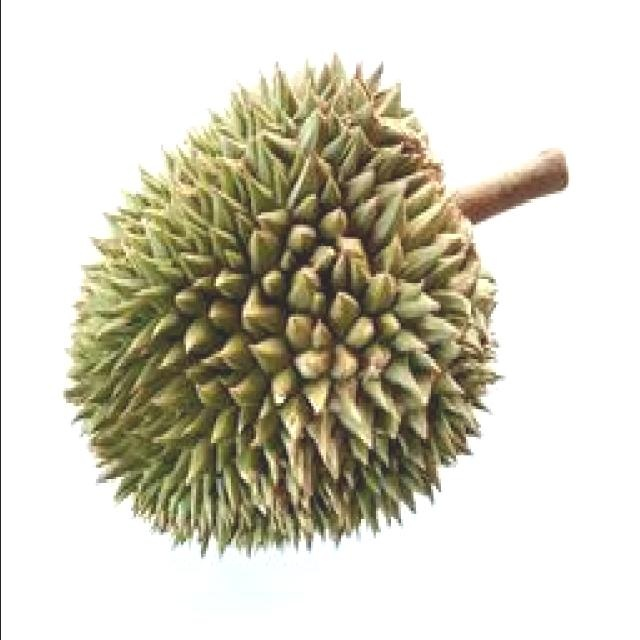agrume: (41, 27, 543, 581)
